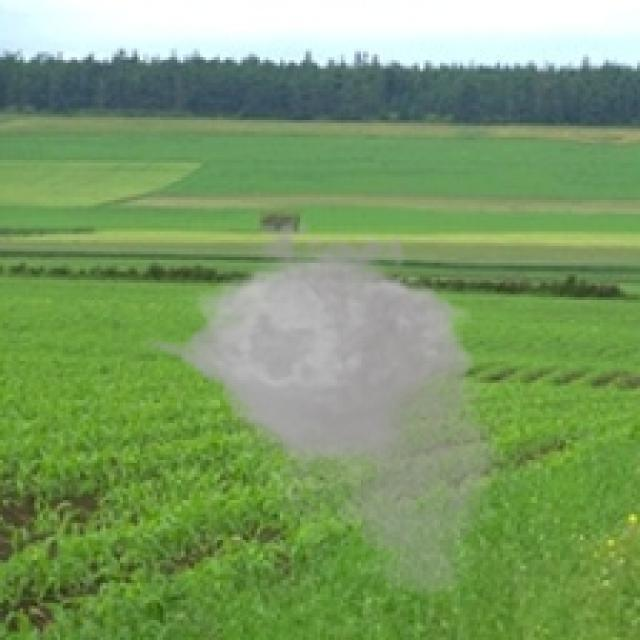Smoke: (132, 208, 514, 603)
